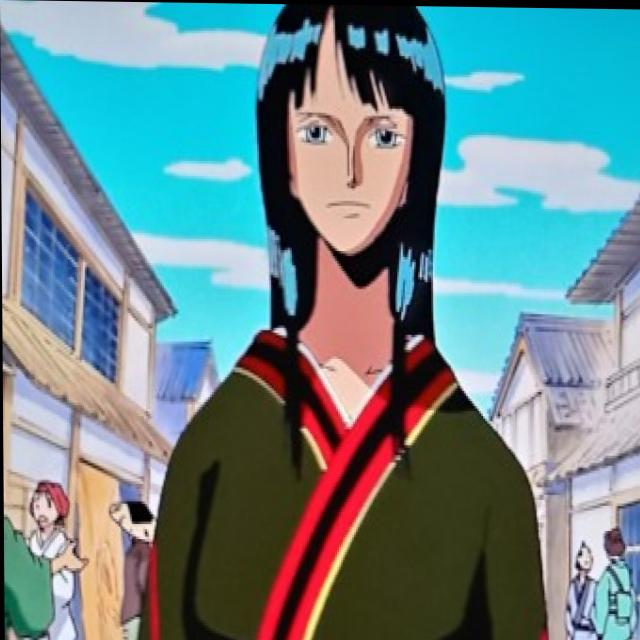NicoRobin: (250, 3, 452, 333)
